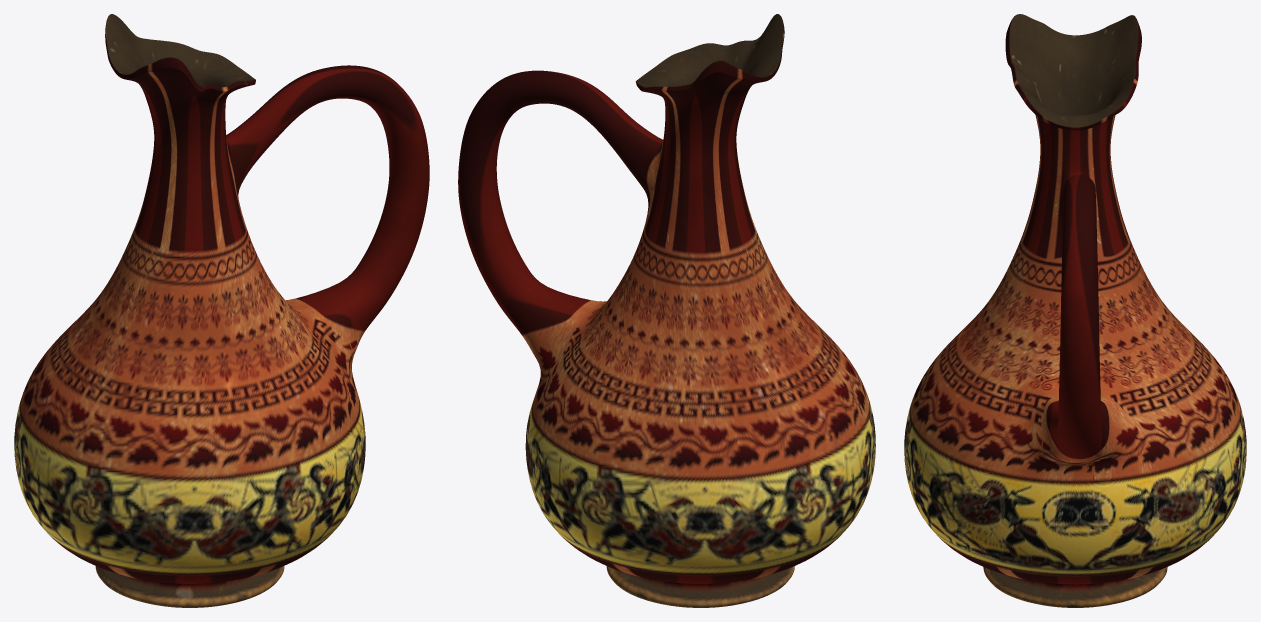
Rendered from ancient_greek_terracotta_clay_vase.glb.
The picture shows the model from 3 angles, left to right: view 1: azimuth 30°, elevation 25°; view 2: azimuth 150°, elevation 25°; view 3: azimuth 270°, elevation 25°; orthographic projection. The views are drawn at different scales.
Parts seen in each view (by area): view 1: pCylinder2; view 2: pCylinder2; view 3: pCylinder2.
Boxes of the visible parts, x1,y1,x2,y2 form: pCylinder2: [14, 14, 429, 607]; pCylinder2: [458, 14, 875, 607]; pCylinder2: [904, 14, 1246, 607].
Bounding box in the file's own units: 11.27 × 15.14 × 8.77.
Materials: 1 (1 with a texture image).
